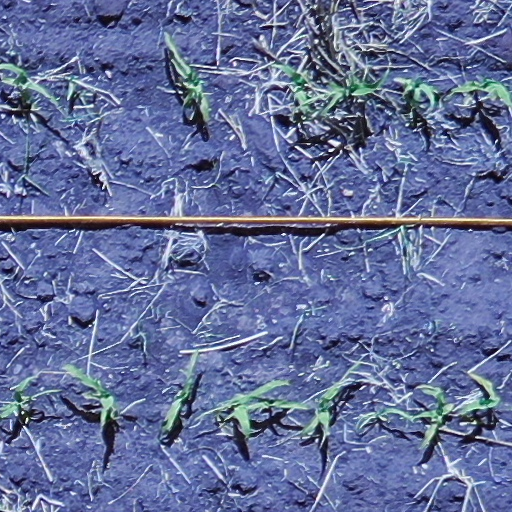planta: (208, 379, 305, 439), (164, 32, 209, 123), (160, 347, 197, 433), (409, 383, 455, 451), (320, 70, 388, 114), (65, 363, 114, 424), (300, 381, 342, 439), (268, 63, 312, 115), (458, 373, 500, 415), (393, 76, 440, 110)
